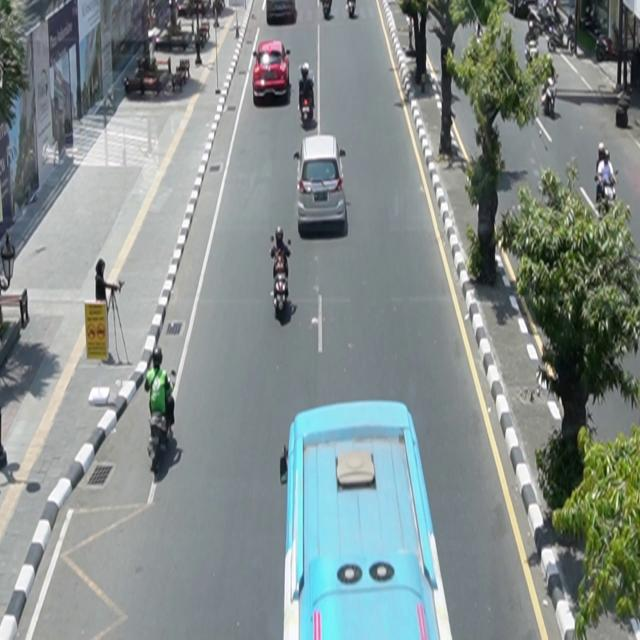bus: (281, 400, 455, 640)
car: (294, 135, 348, 235), (253, 40, 292, 104)
